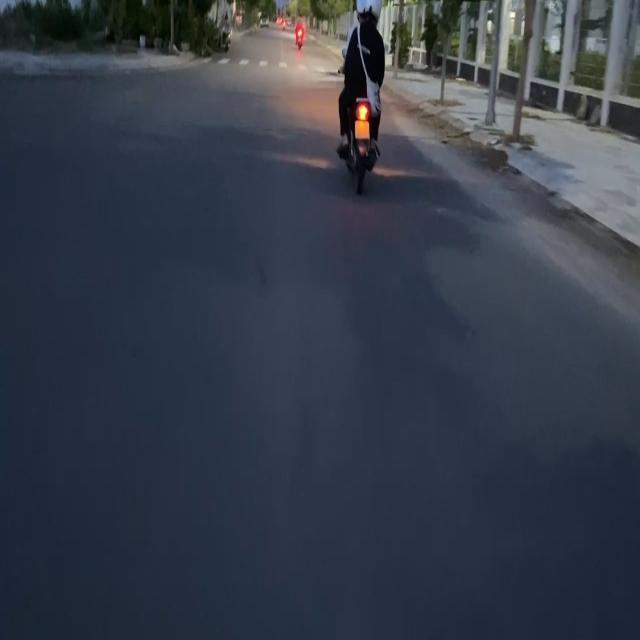walk-crossing: (210, 53, 336, 76)
